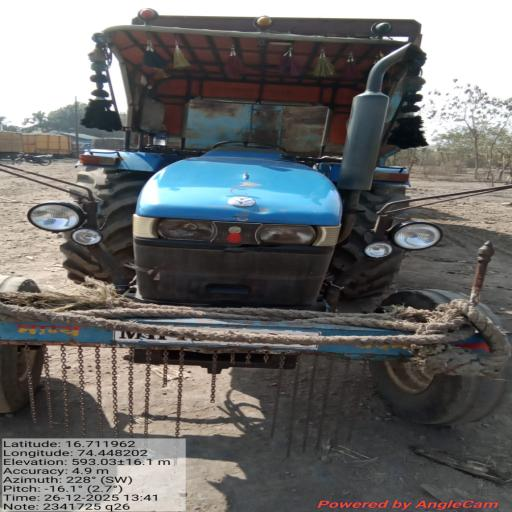number_plate: (104, 316, 308, 359)
